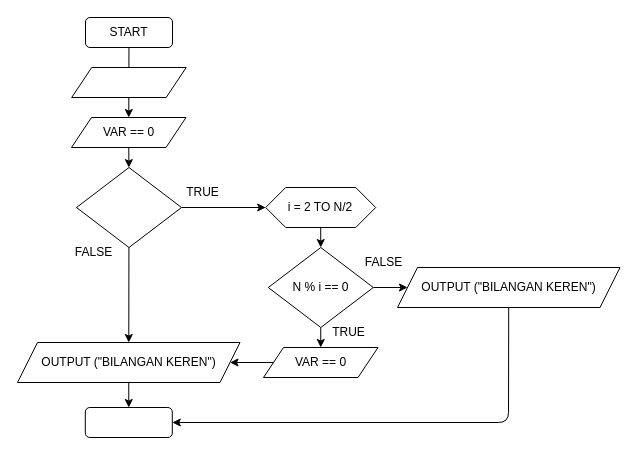
Some shapes in this 638 by 455 pixel diagram are drawn without their labels. The centre of each missing label's shape, as x and y in pixels:
"FINISH" goes at (128,422).
"INPUT (N)" goes at (128,82).
"N % 2 == 0" goes at (129,207).
